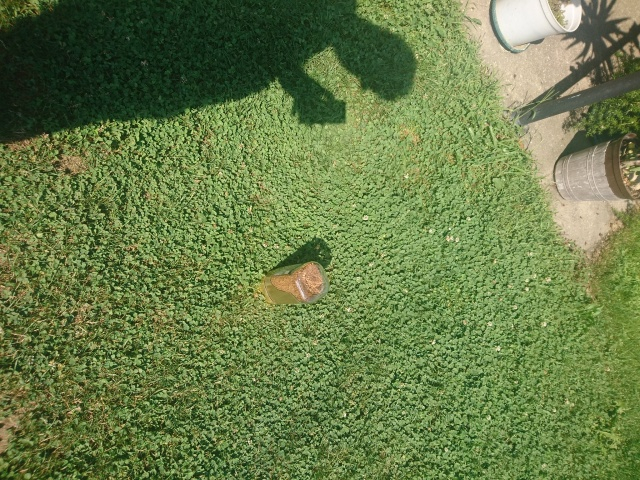Nescafe Gold 225g: (255, 258, 333, 310)
